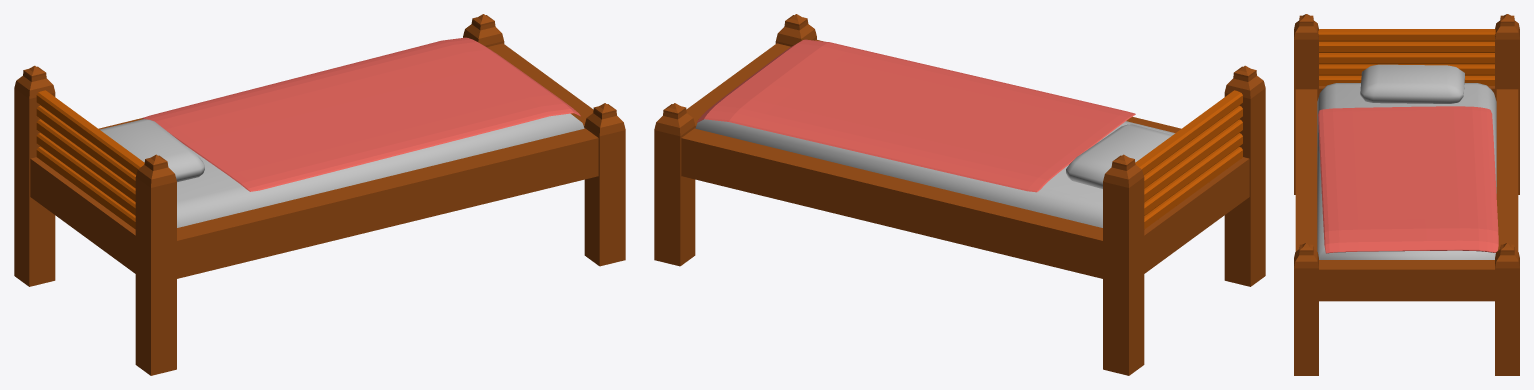
File: Bed2.fbx
3 views of the same model, side by side, from view 1: azimuth 30°, elevation 25°; view 2: azimuth 150°, elevation 25°; view 3: azimuth 270°, elevation 25° (orthographic). The views are drawn at different scales.
Visible parts, largest first — view 1: Bed2; view 2: Bed2; view 3: Bed2.
Boxes of the visible parts, <box> form: Bed2: <box>14,14,625,375</box>; Bed2: <box>654,14,1265,375</box>; Bed2: <box>1294,14,1519,375</box>.
Bounding box in the file's own units: 1014 × 433 × 505.
